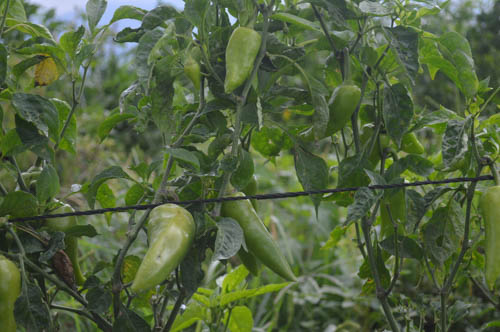ChiliPepper: (225, 194, 303, 285), (131, 205, 192, 294), (300, 86, 359, 151), (48, 206, 88, 281), (221, 27, 260, 96)
